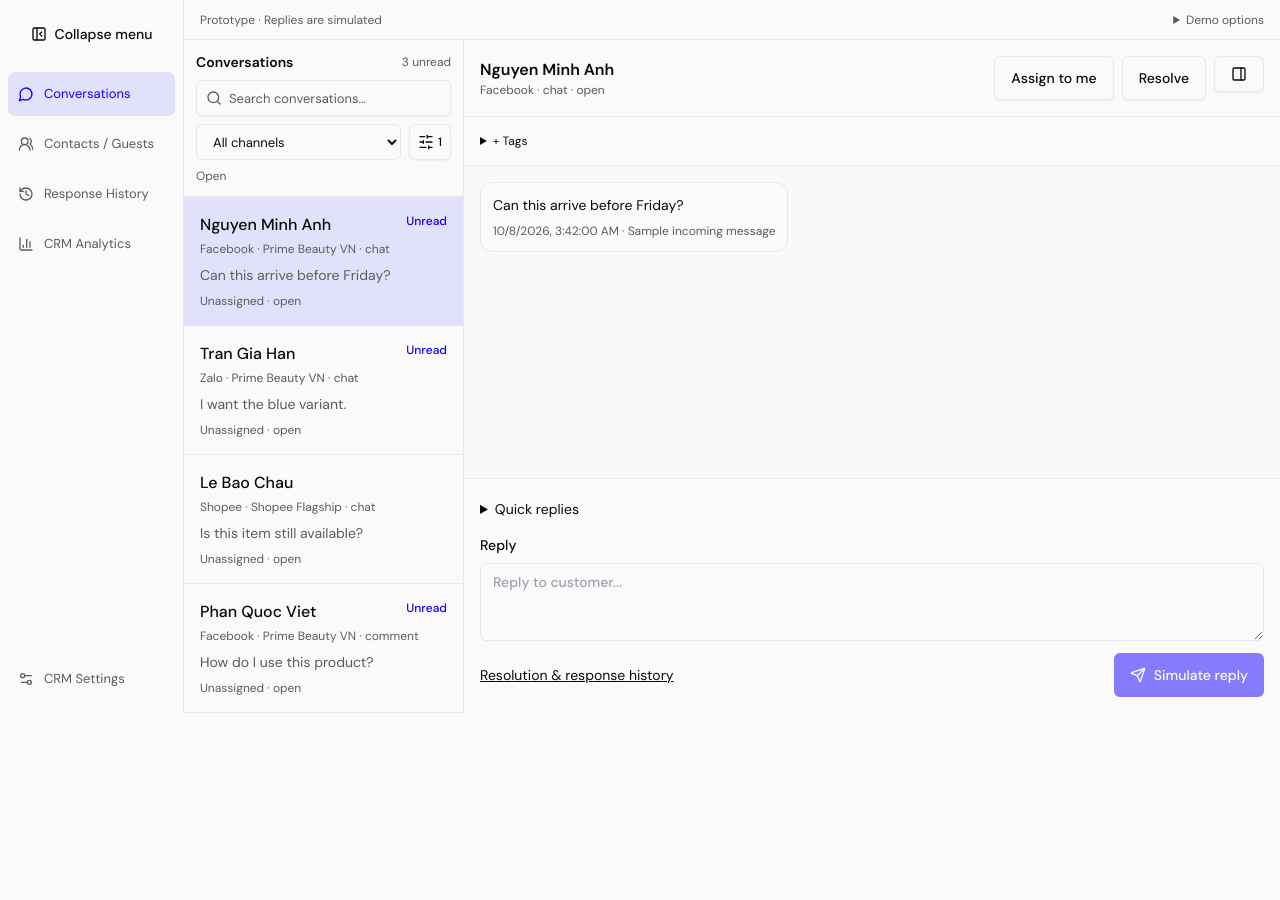
Test case: Prime CRM workspace flows › filters by channel, resets the dependent shop and preserves conversation drafts
Type "Draft for Anh" into the text box labelled "Reply" at (872, 602), box x1=480 y1=563 x2=1264 y2=641
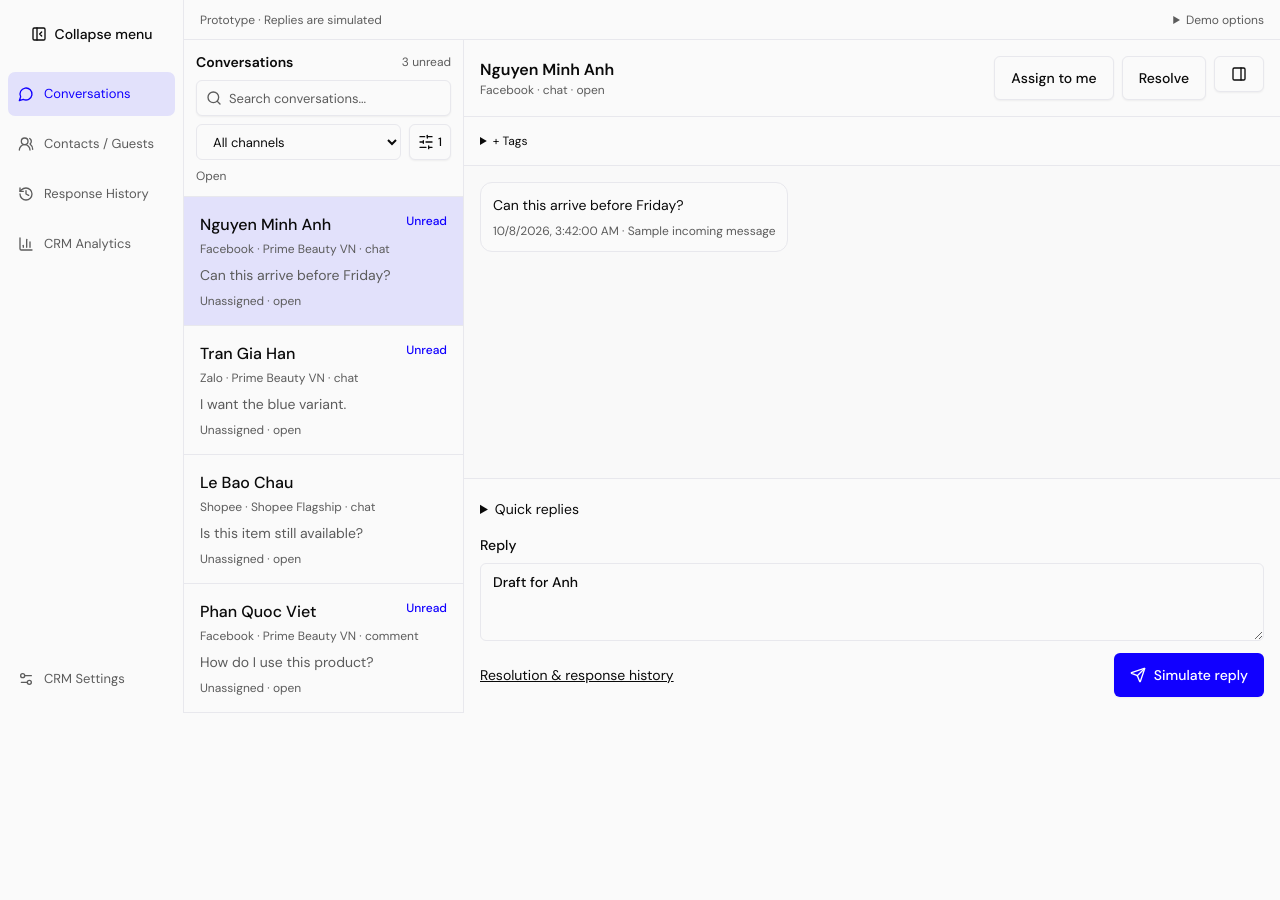
Select "Shopee" in the dropdown named "Channel" at (299, 142), box x1=196 y1=124 x2=401 y2=160
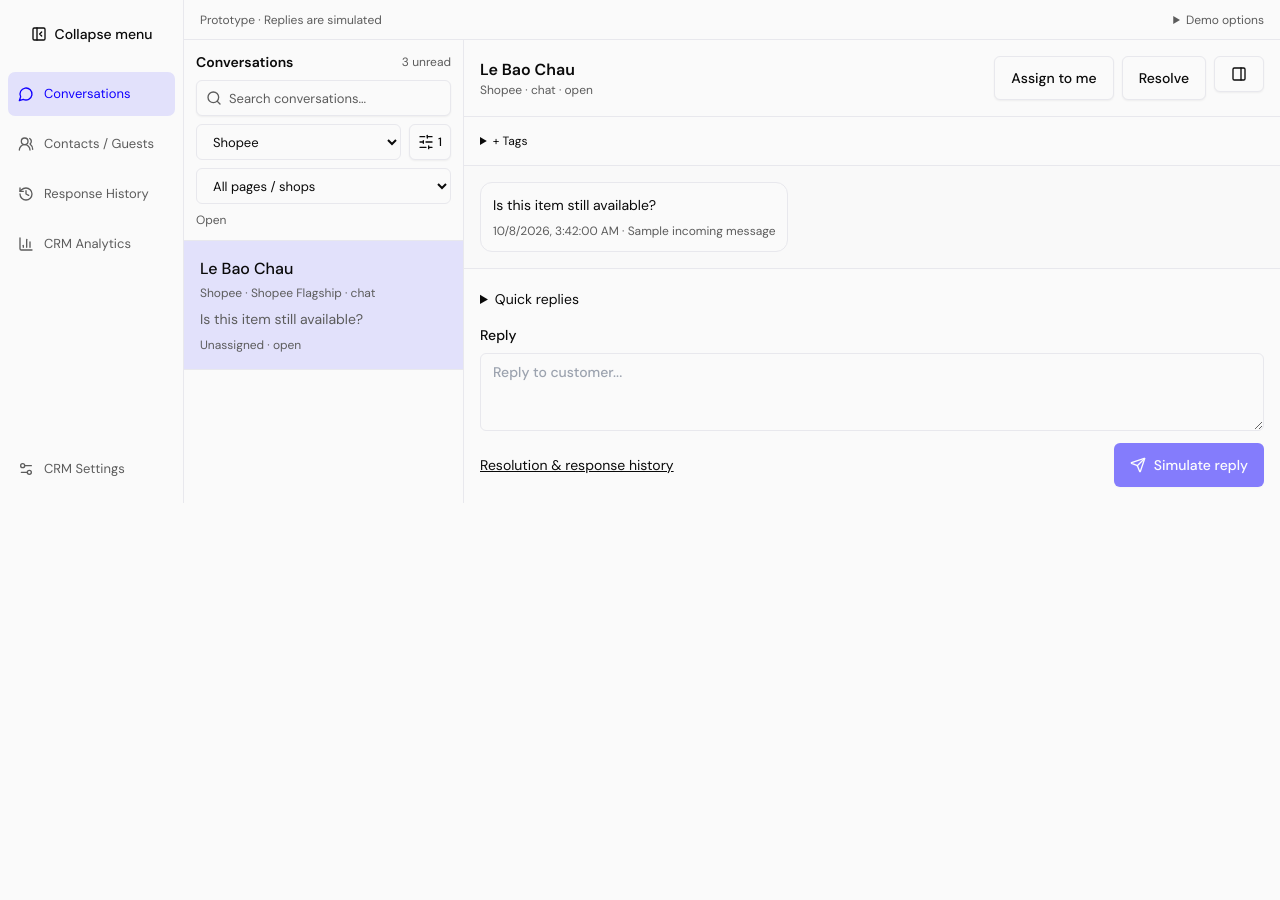
Expected: the heading "Le Bao Chau" is shown, x1=480 y1=59 x2=575 y2=80
Expected: the button "Prime Beauty VN" is gone
Select "Shopee Flagship" in the dropdown named "Page / Shop" at (324, 186), box x1=196 y1=168 x2=451 y2=204
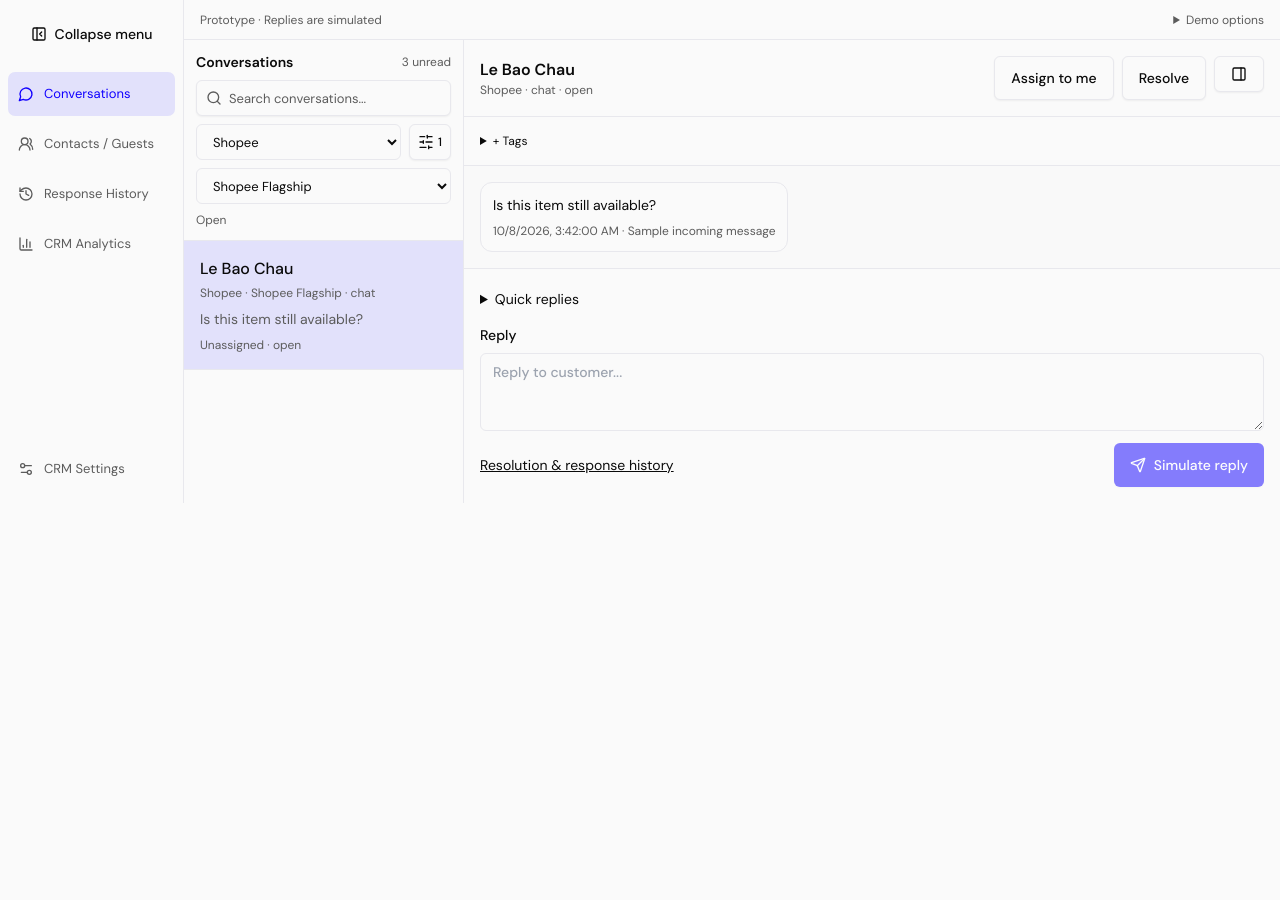
Select "Facebook" in the dropdown named "Channel" at (299, 142), box x1=196 y1=124 x2=401 y2=160
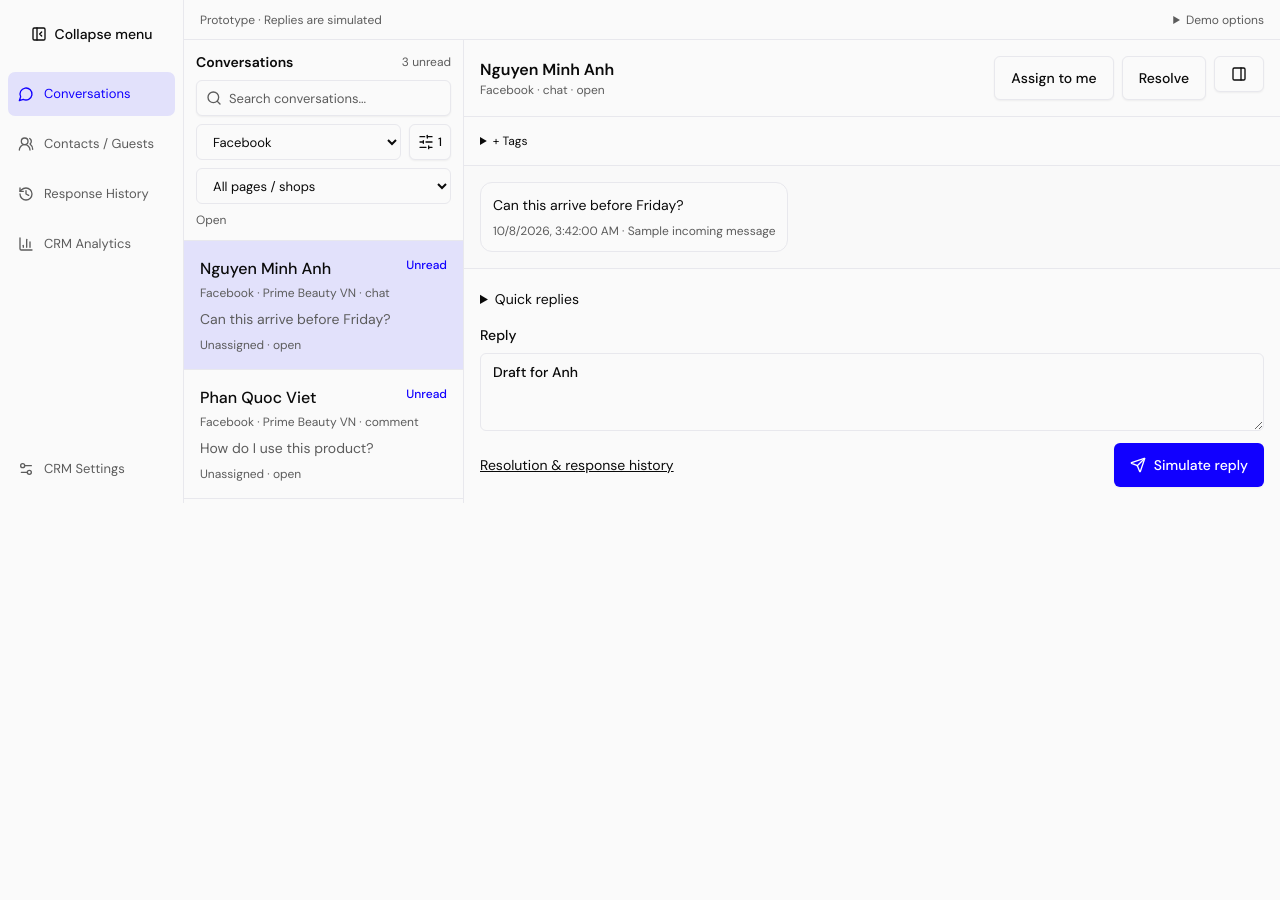
Expected: the button "Shopee Flagship" is gone
